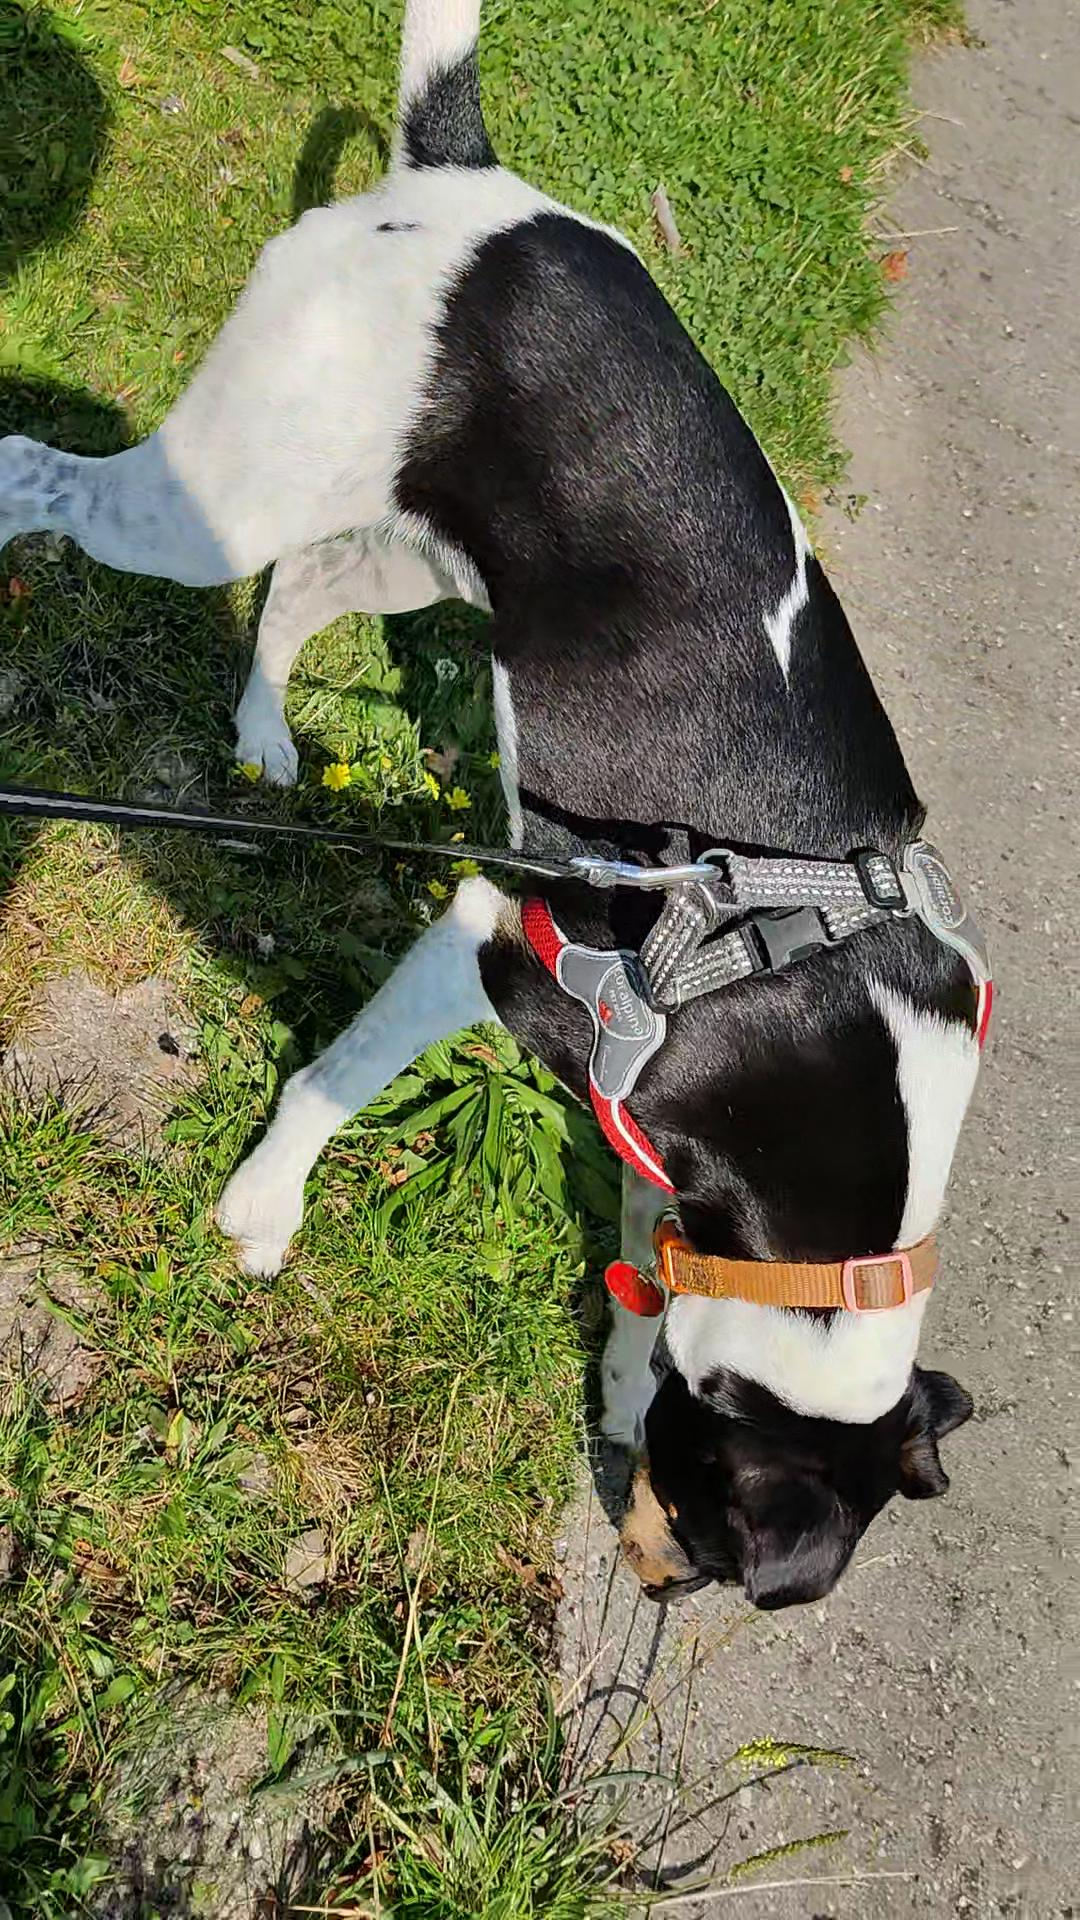Dog: (0, 166, 1004, 1613)
